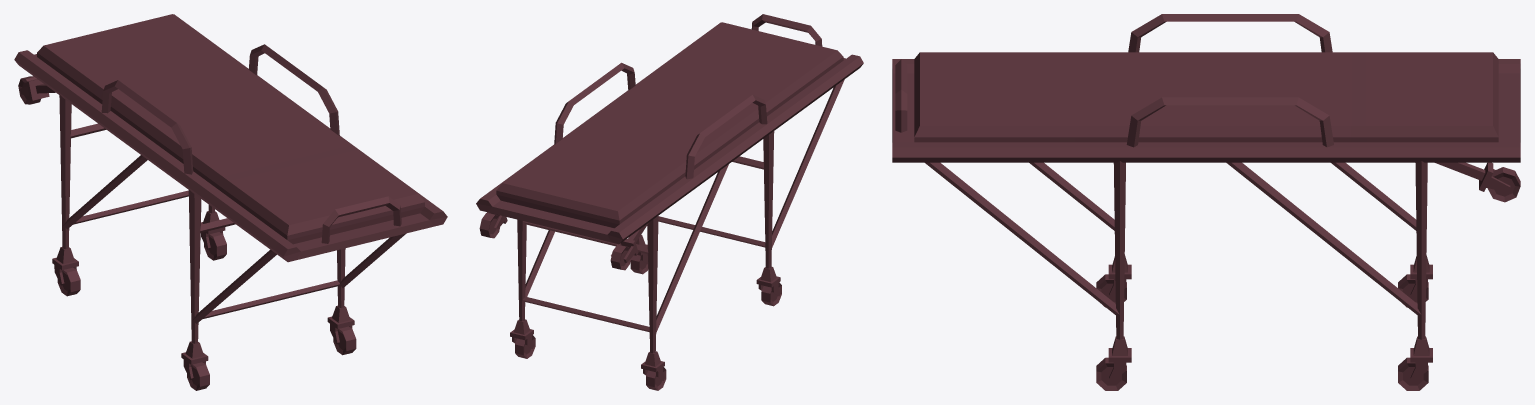
Rendered from stretcher-loading-a.fbx.
3 renders of one model, left to right at view 1: azimuth 30°, elevation 25°; view 2: azimuth 150°, elevation 25°; view 3: azimuth 270°, elevation 25°, orthographic. The views are drawn at different scales.
Visible parts, largest first — view 1: stretcher-loading-a; view 2: stretcher-loading-a; view 3: stretcher-loading-a.
Part boxes in pixels (bbox=[...]): stretcher-loading-a: bbox=[14, 14, 447, 390]; stretcher-loading-a: bbox=[476, 14, 863, 390]; stretcher-loading-a: bbox=[892, 14, 1520, 390].
Size of the model in its own units: 0.7284 by 1.06 by 2.07.
